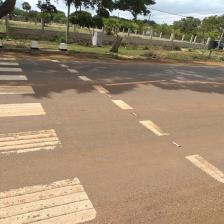crossing: (1, 53, 223, 223), (184, 154, 224, 184), (138, 119, 169, 136), (111, 99, 133, 110)
